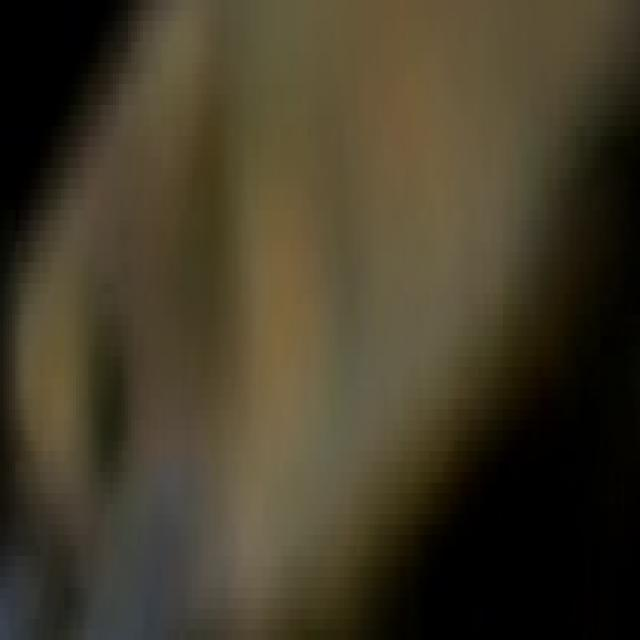fish: (3, 0, 640, 630)
